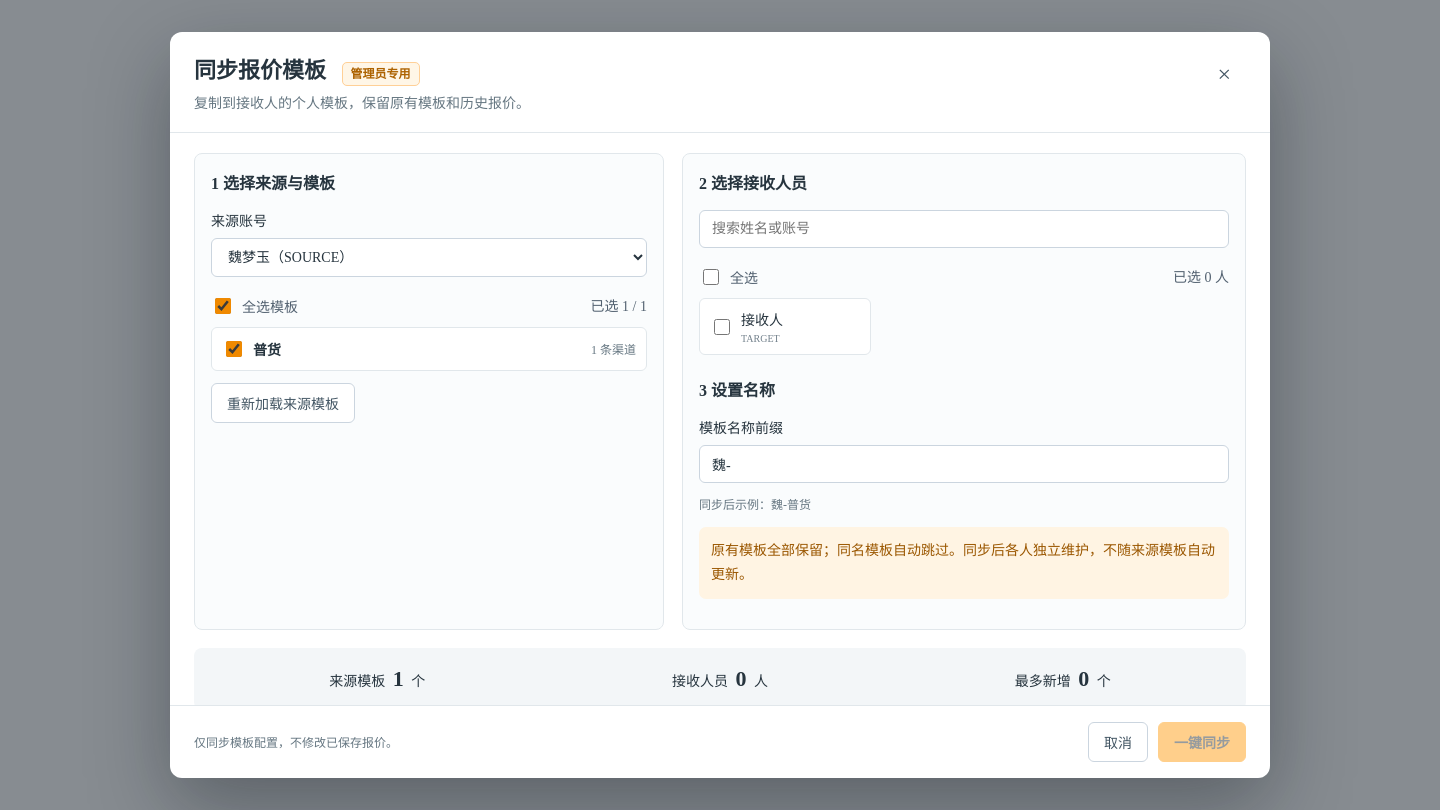
Test case: shows skipped templates per recipient without claiming they were updated
Click the checkbox labelled "接收人 TARGET": [722, 327] box 714,319 -> 730,335
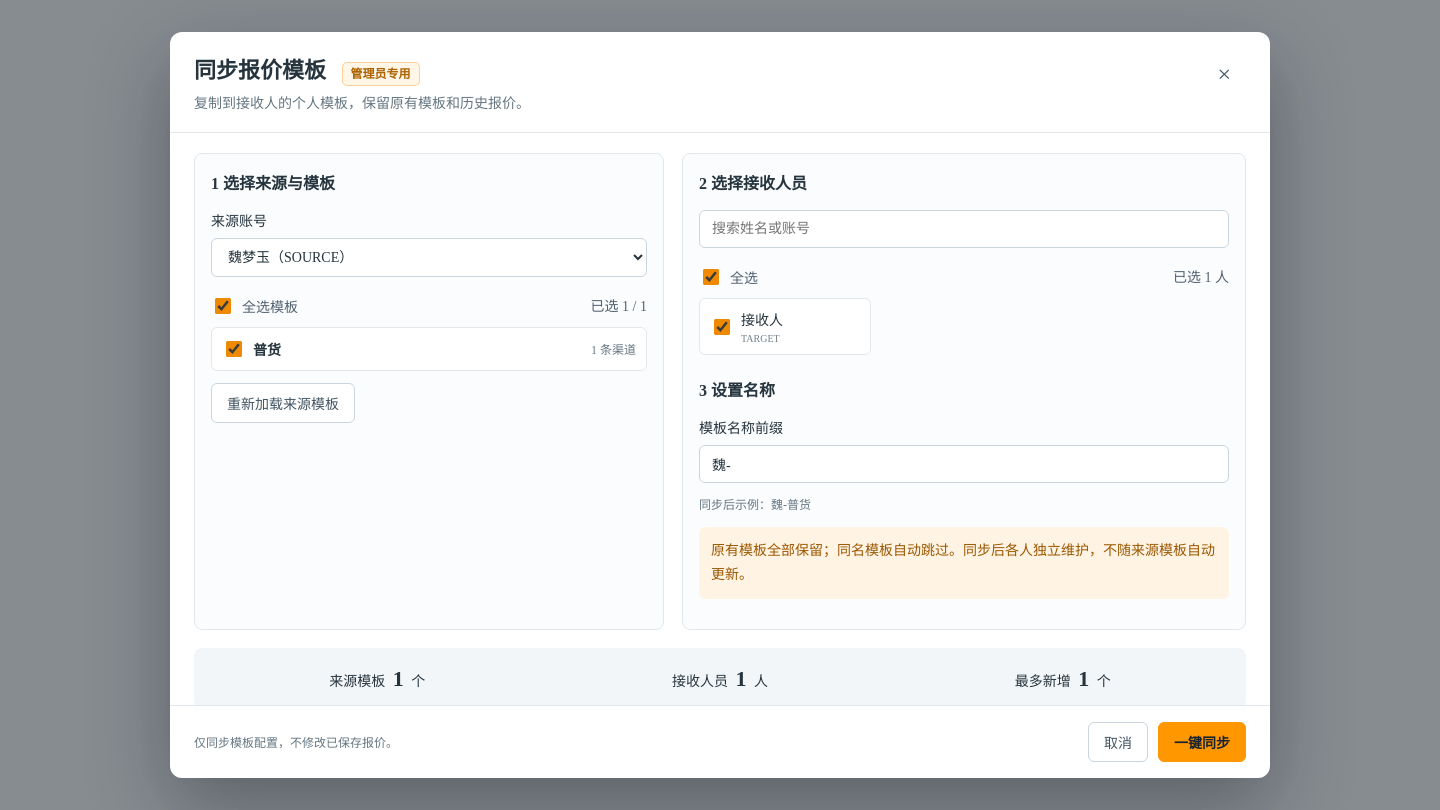
Click the button "一键同步": [1202, 742] box 1158,722 -> 1246,762
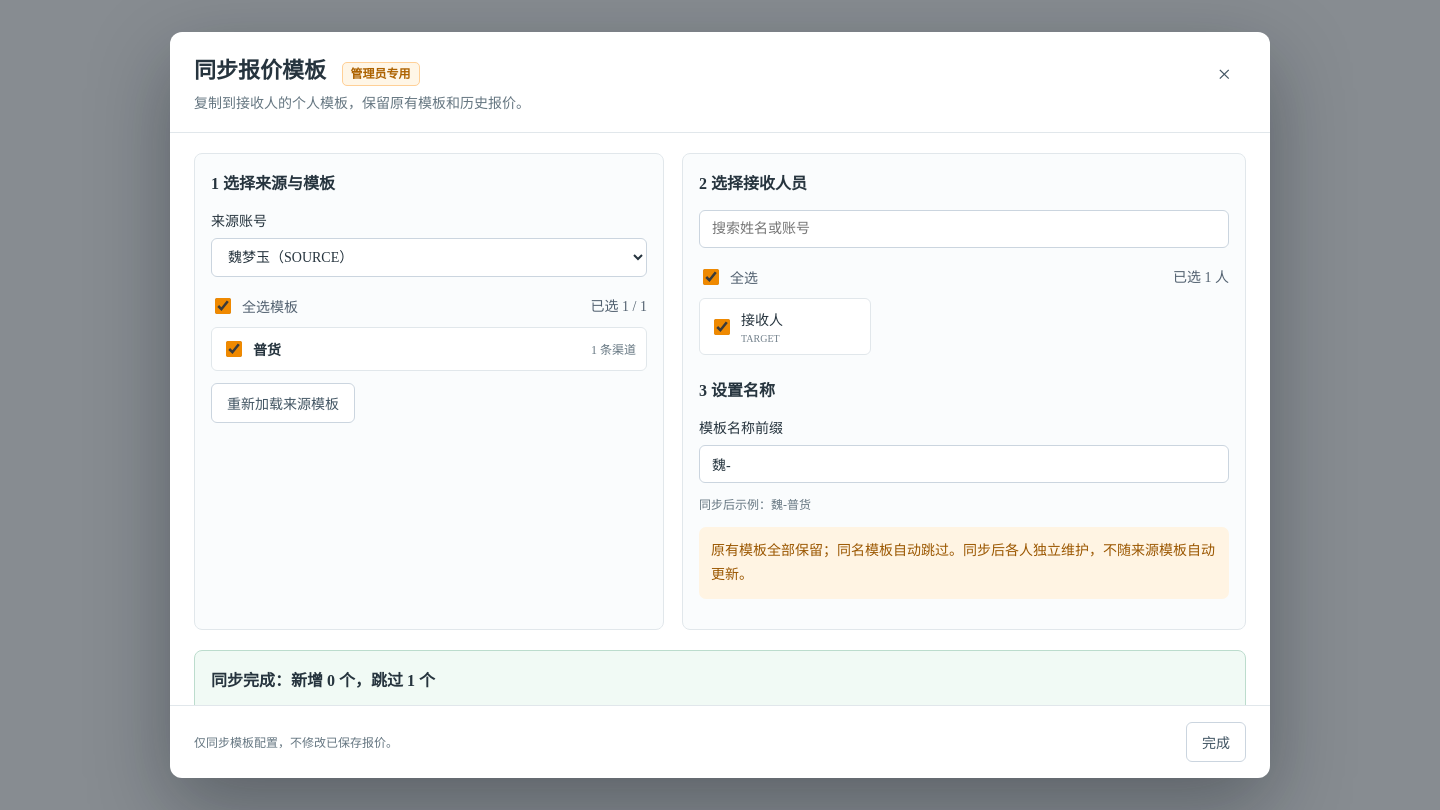
expect the message with class "sync-result" shows "新增 0 个，跳过 1 个": met, box 211,672 -> 435,689
